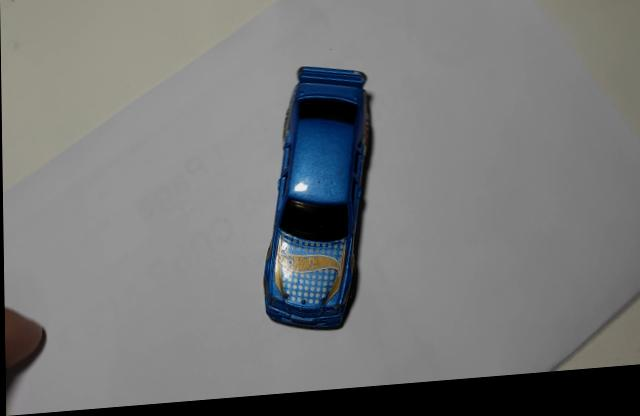04_MERZEDES: (262, 72, 372, 339)
